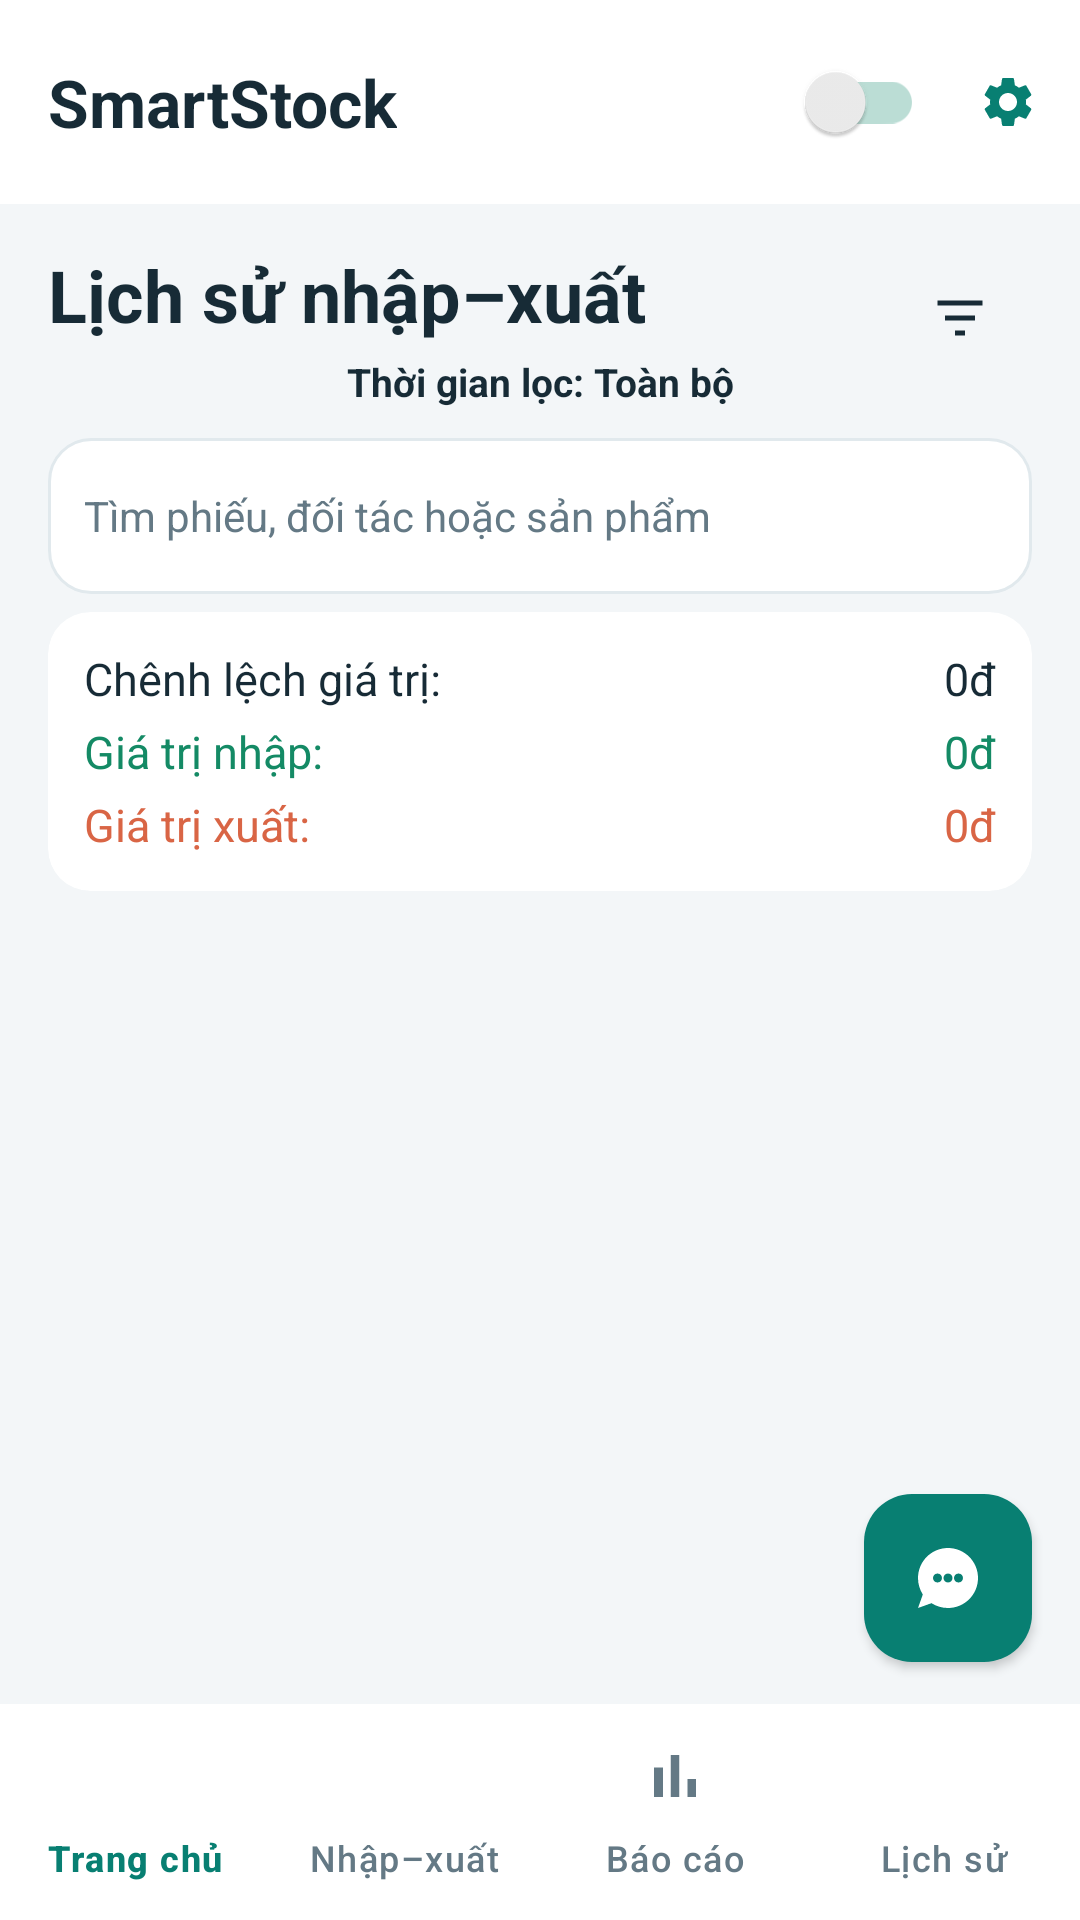

Where to tap for icons on this 1080 × 1920 app screen, as [x,y]:
AI: [948,1578]
Cài đặt: [1008,102]
Lọc phiếu kho: [960,318]
